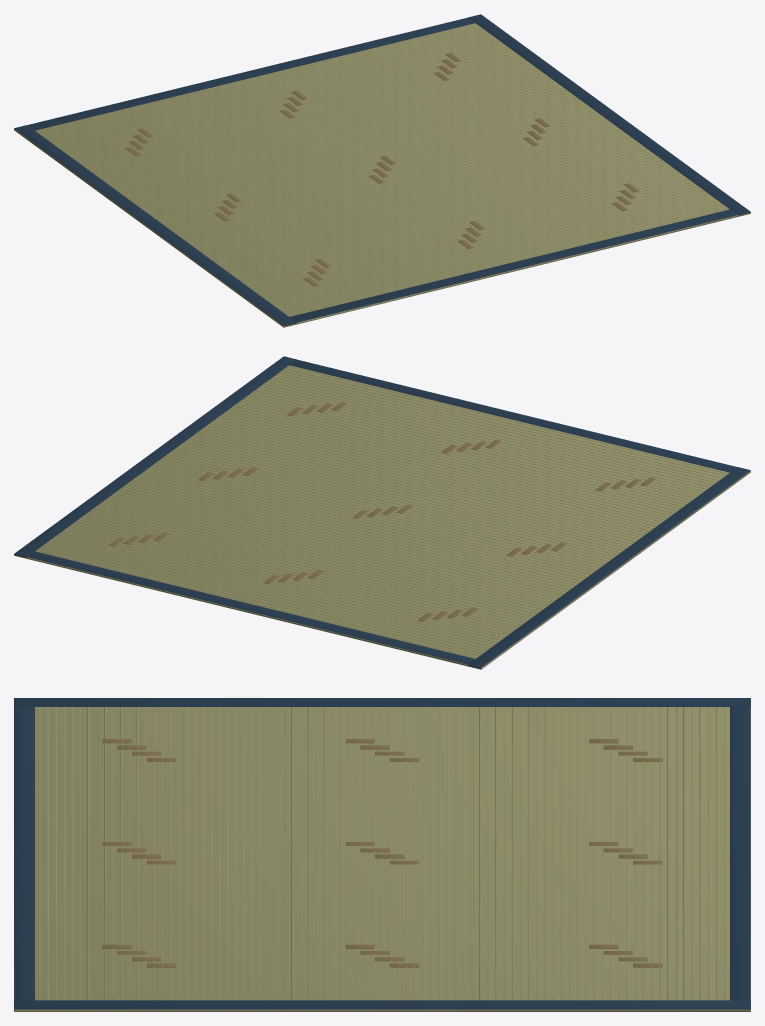
File: kominka-hanagoza-01.glb
3 views of the same model, one above another, from view 1: azimuth 30°, elevation 25°; view 2: azimuth 150°, elevation 25°; view 3: azimuth 270°, elevation 25° (orthographic). The views are drawn at different scales.
Visible parts, largest first — view 1: kominka-hanagoza-01; view 2: kominka-hanagoza-01; view 3: kominka-hanagoza-01.
Boxes of the visible parts, x1,y1,x2,y2 form: kominka-hanagoza-01: [14, 14, 750, 327]; kominka-hanagoza-01: [14, 356, 750, 669]; kominka-hanagoza-01: [14, 698, 750, 1011].
Size of the model in its own units: 2 by 0.01 by 2.
